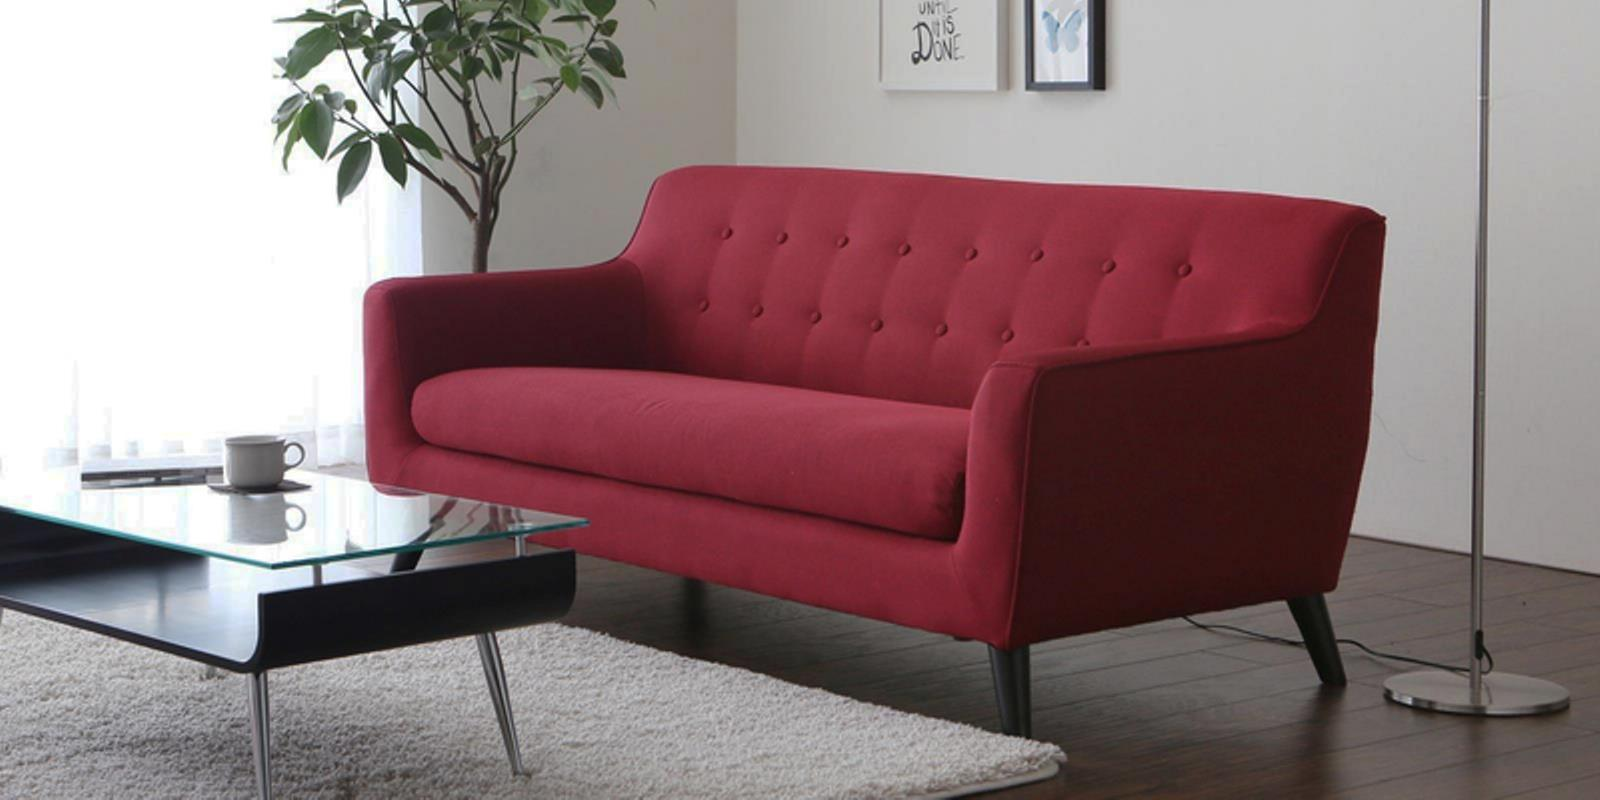Bogota Three Seater Sofa in Red Colour by CasaCraft: (338, 157, 1406, 724)
